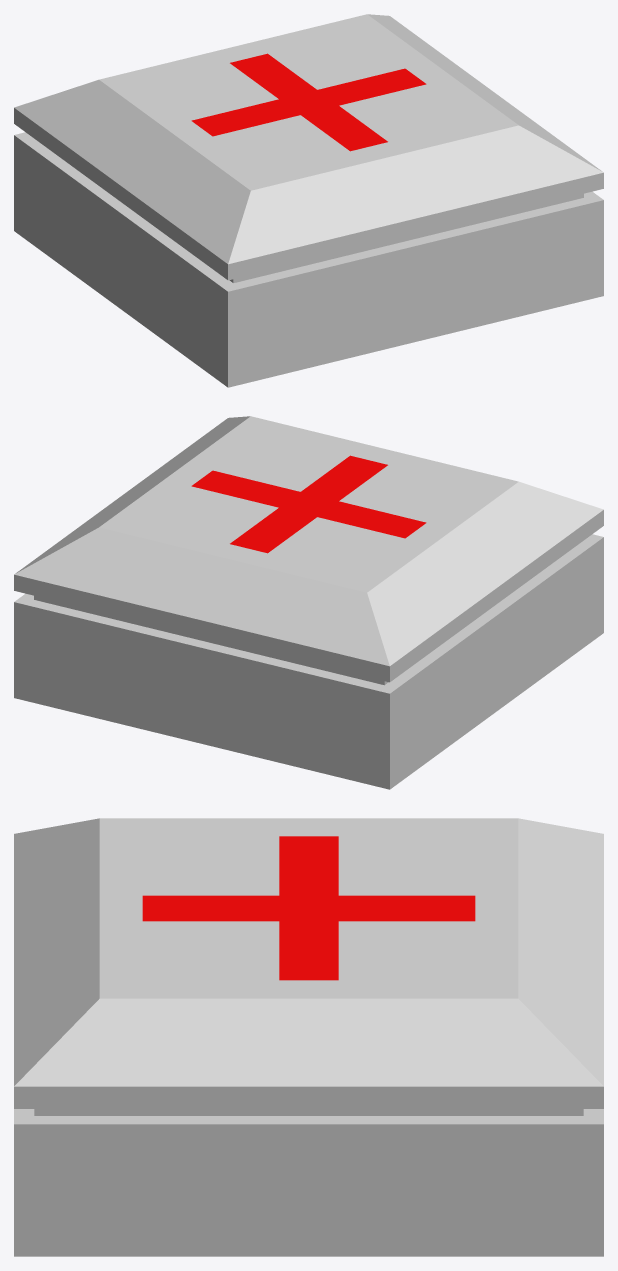
File: HealthPickup.FBX
3 renders of one model, top to bottom at view 1: azimuth 30°, elevation 25°; view 2: azimuth 150°, elevation 25°; view 3: azimuth 270°, elevation 25°, orthographic. The views are drawn at different scales.
Parts seen in each view (by area): view 1: Box02; view 2: Box02; view 3: Box02.
Part boxes in pixels (x1,y1,x2,y2): Box02: (14, 14, 603, 387); Box02: (14, 416, 603, 789); Box02: (14, 818, 603, 1256).
Size of the model in its own units: 2.09 by 0.8563 by 2.06.
